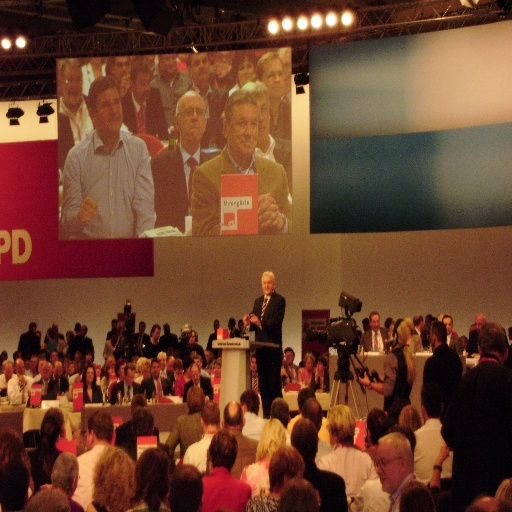hand: (256, 192, 274, 229), (262, 196, 280, 232), (78, 199, 99, 225), (212, 60, 231, 78), (437, 440, 451, 459), (119, 72, 130, 96), (356, 370, 370, 387), (249, 313, 259, 325), (242, 312, 249, 325), (86, 351, 94, 362), (202, 393, 209, 404), (314, 367, 321, 378), (73, 373, 80, 383), (281, 368, 287, 379), (16, 374, 25, 381), (464, 349, 468, 357)
